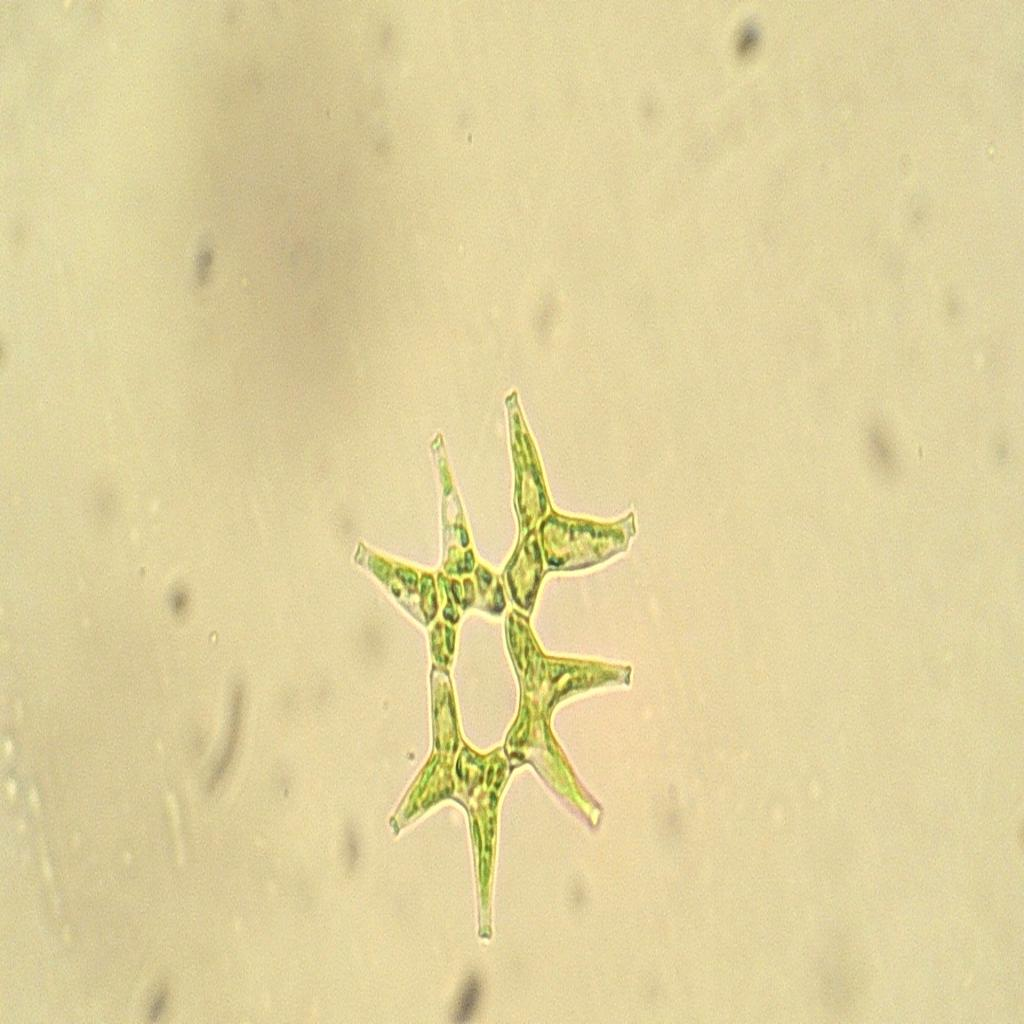Pediastrum_75FI: (343, 374, 644, 963)
